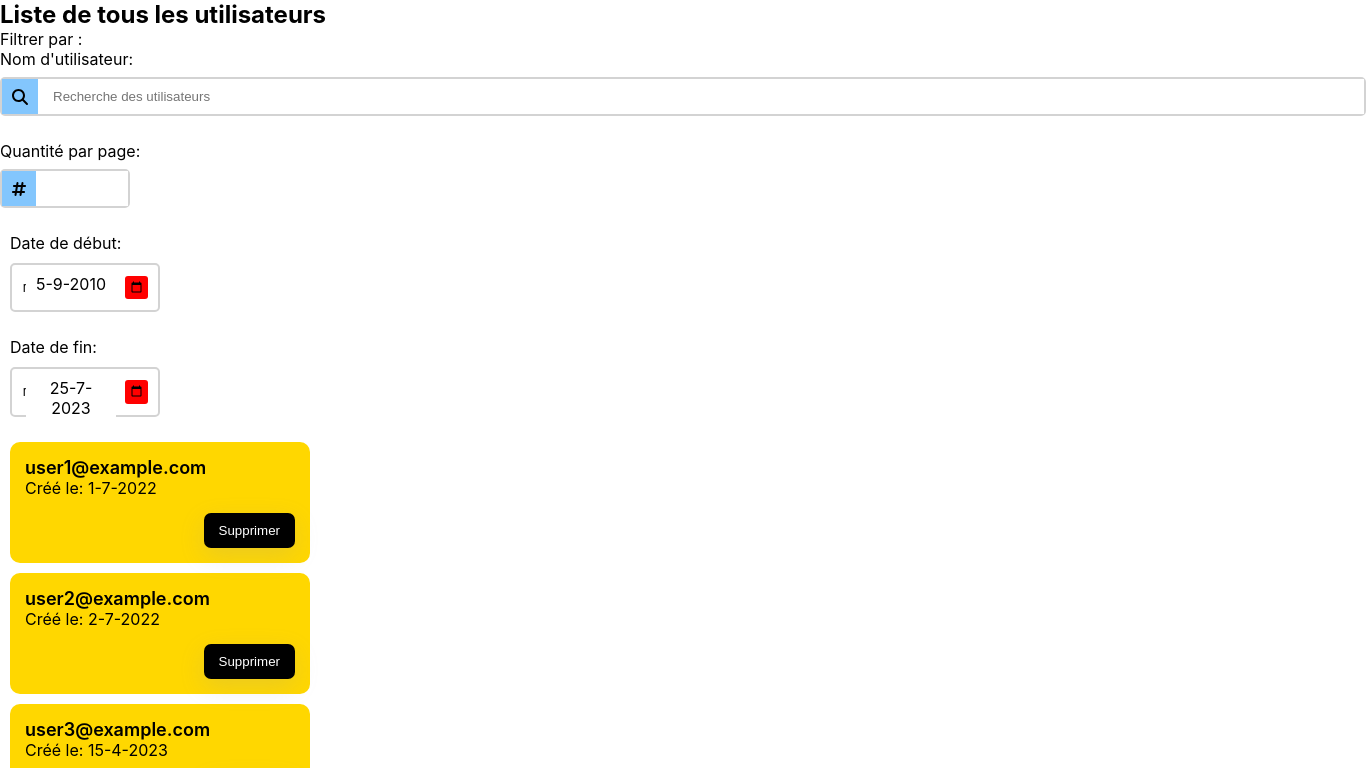
Users Container › opens delete modal when delete button is clicked
// Click on the first delete button
Click the button with test id "submit" below "1-7-2022". click: coordinates (249, 530)
box: [204,513,295,548]
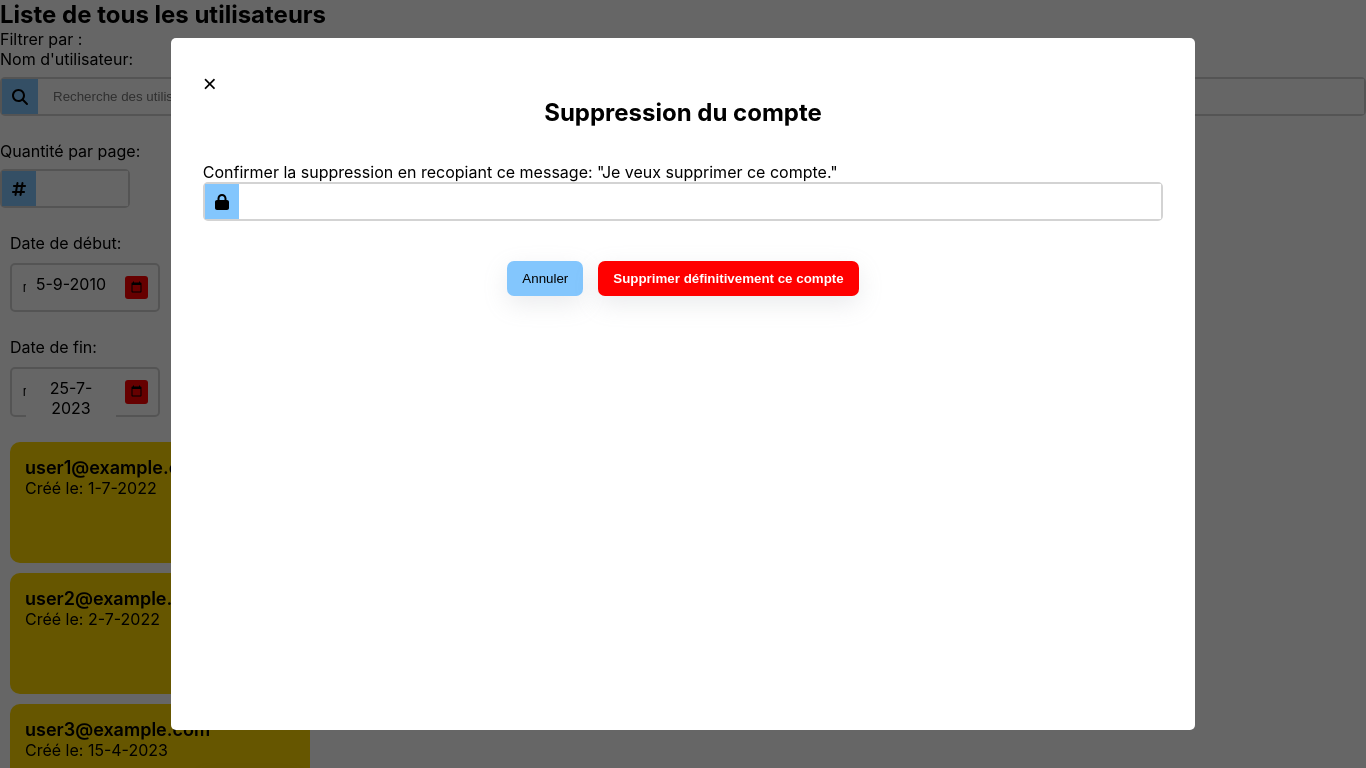
Now the element with test id "modal-backdrop" is shown
